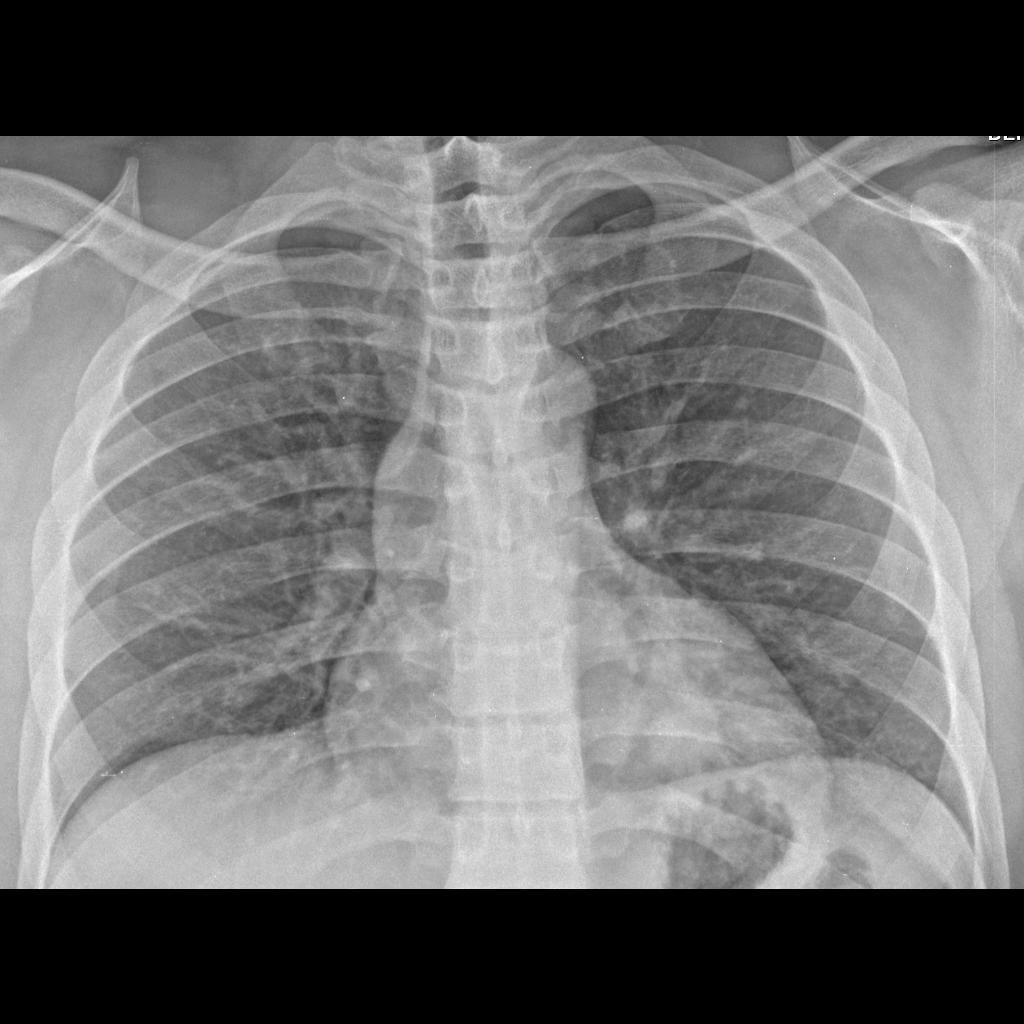Nodule: (642, 678, 749, 785)
